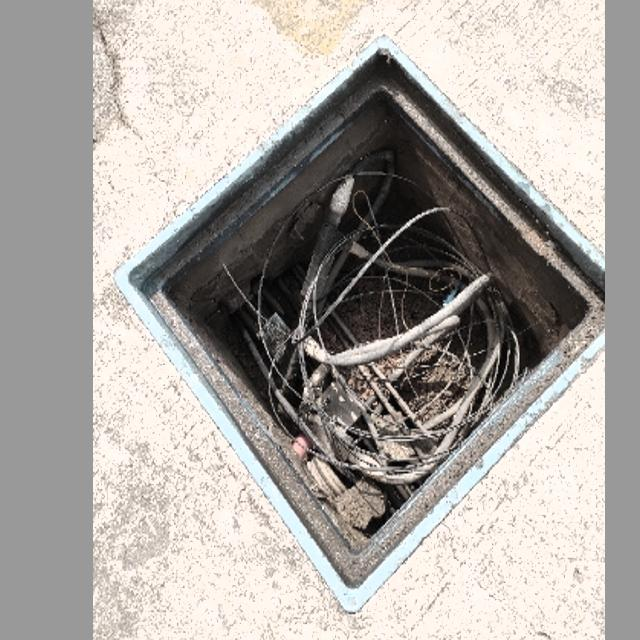lose: (112, 35, 604, 614)
